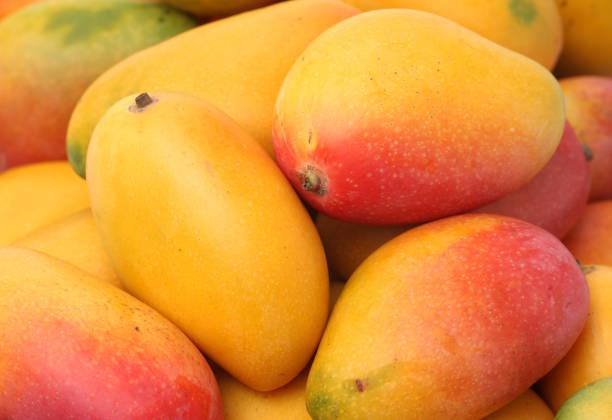mango: (94, 83, 342, 390), (271, 3, 586, 213), (296, 210, 580, 420)
